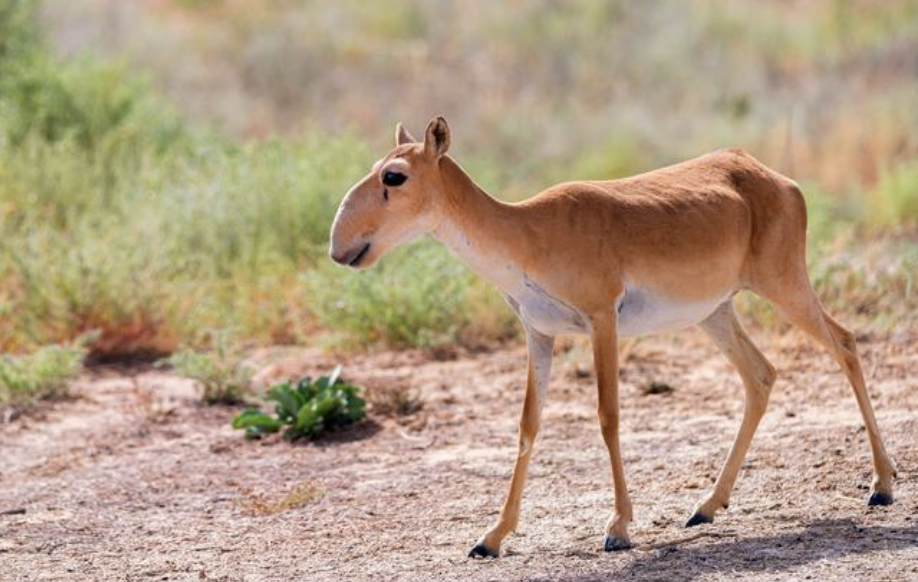saiga: (318, 108, 913, 532)
